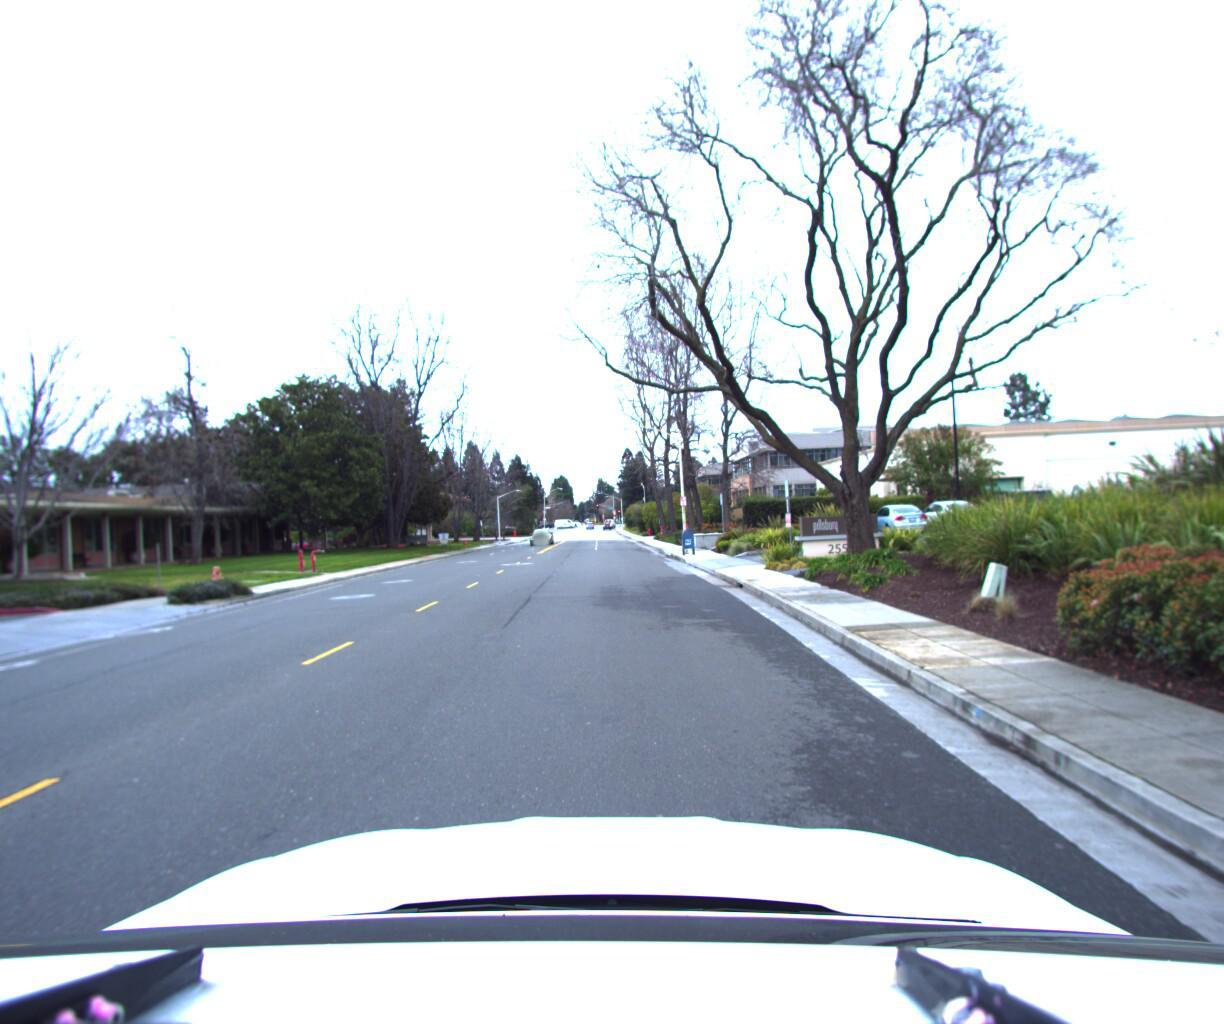car: (866, 501, 932, 536), (531, 527, 559, 546)
